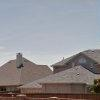Chimney: (11, 48, 28, 74)
